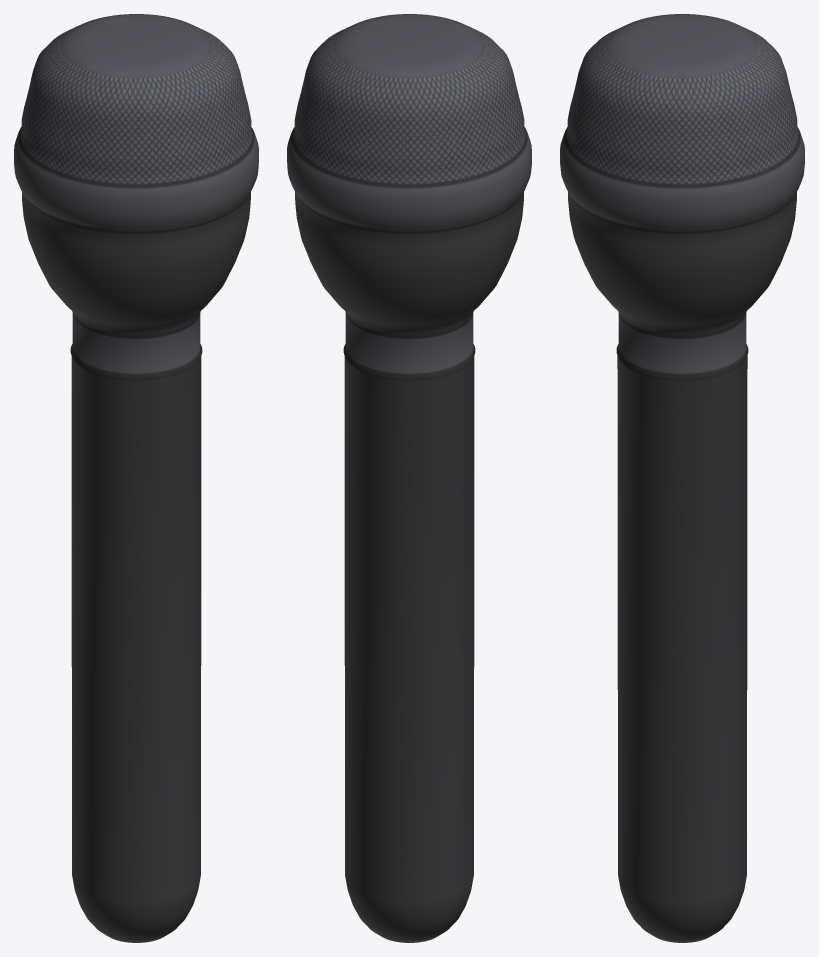
3 renders of one model, left to right at view 1: azimuth 30°, elevation 25°; view 2: azimuth 150°, elevation 25°; view 3: azimuth 270°, elevation 25°, orthographic.
Visible parts, largest first — view 1: ev-re50-body; view 2: ev-re50-body; view 3: ev-re50-body.
Part boxes in pixels (x1=…): ev-re50-body: x1=14, y1=14, x2=258, y2=942; ev-re50-body: x1=287, y1=14, x2=531, y2=942; ev-re50-body: x1=560, y1=14, x2=804, y2=942.
Bounding box in the file's own units: 0.049 × 0.197 × 0.049.
1 material, 1 textured.
